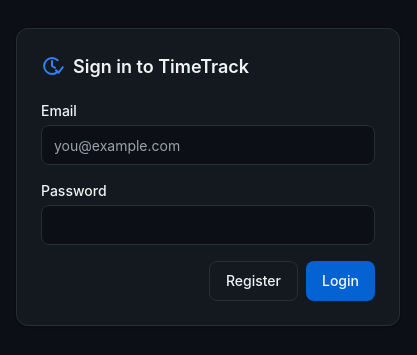
Scenario: LoginPage › shows validation error when password is empty
The width and height of the screenshot is (417, 355).
# type a valid email but no password
In the field named "email": (208, 145) [41,125,375,165], type "user@example.com"
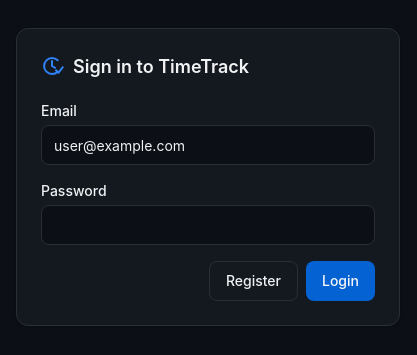
Click the button "Login": (340, 281) [306,261,375,301]
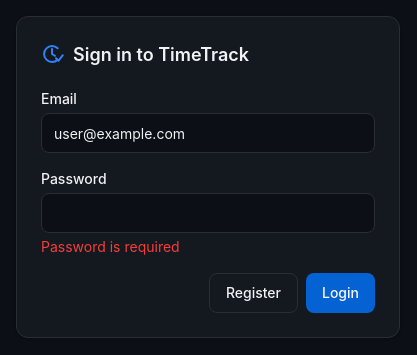
Expected: the message "Password is required" is shown, [41,238,180,255]
